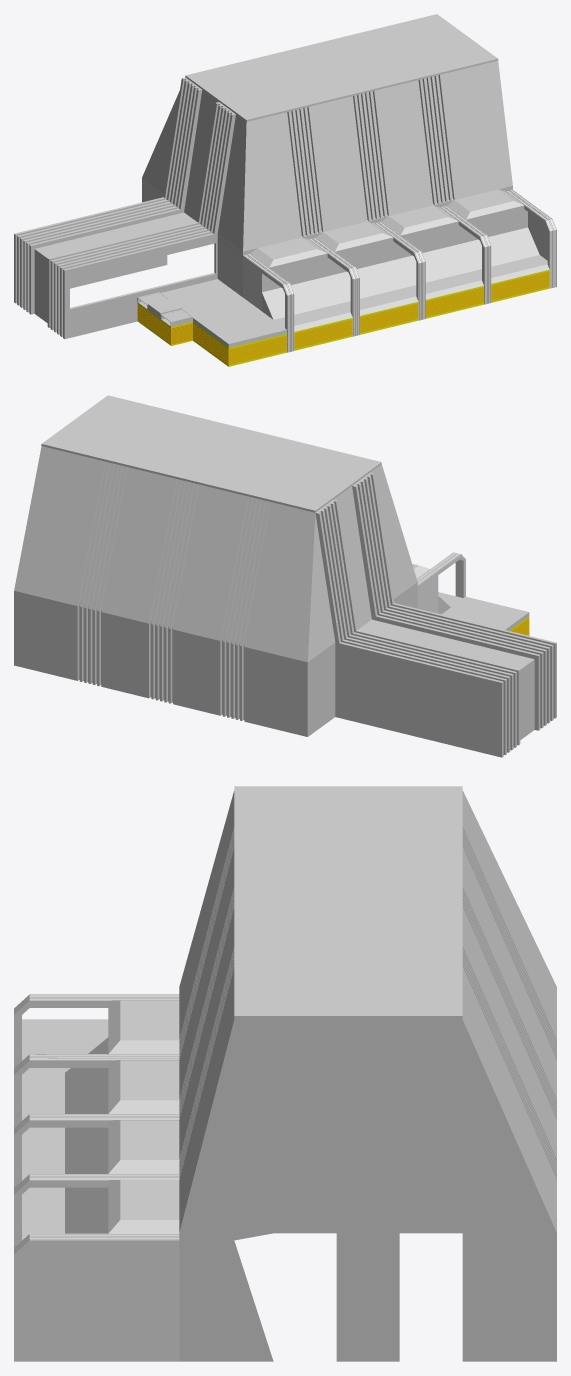
The model's file is ResearchBuilding_1.fbx.
The picture shows the model from 3 angles, top to bottom: view 1: azimuth 30°, elevation 25°; view 2: azimuth 150°, elevation 25°; view 3: azimuth 270°, elevation 25°; orthographic projection. The views are drawn at different scales.
Visible parts, largest first — view 1: roofEdge_1x1.318_wall4b_2x2.000_Cube.014, roofEdge_1x1.318_wall4b_2x2.000_Cube.007, wall2_2x2.001_Cube.000_wall2_2x2.001_Cube.021, roofEdge_1x1.318_wall4b_2x2.000_Cube.013, beam_0.5x2_Cube.366_beam_0.5x2_Cube.003, beam_0.5x2_Cube.366_beam_0.5x2_Cube.007, beam_0.5x2_Cube.366_beam_0.5x2_Cube.000, beam_0.5x2_Cube.366_beam_0.5x2_Cube.001, beam_0.5x2_Cube.366_beam_0.5x2_Cube.002; view 2: roofEdge_1x1.318_wall4b_2x2.000_Cube.014, roofEdge_1x1.318_wall4b_2x2.000_Cube.013, beam_0.5x2_Cube.366_beam_0.5x2_Cube.003; view 3: roofEdge_1x1.318_wall4b_2x2.000_Cube.014, beam_0.5x2_Cube.366_beam_0.5x2_Cube.007, roofEdge_1x1.318_wall4b_2x2.000_Cube.007, roofEdge_1x1.318_wall4b_2x2.000_Cube.013, beam_0.5x2_Cube.366_beam_0.5x2_Cube.001, beam_0.5x2_Cube.366_beam_0.5x2_Cube.003, beam_0.5x2_Cube.366_beam_0.5x2_Cube.002, beam_0.5x2_Cube.366_beam_0.5x2_Cube.000.
Part boxes in pixels (<box>): roofEdge_1x1.318_wall4b_2x2.000_Cube.014: <box>14,14,523,339</box>; roofEdge_1x1.318_wall4b_2x2.000_Cube.007: <box>262,205,549,331</box>; wall2_2x2.001_Cube.000_wall2_2x2.001_Cube.021: <box>137,269,549,366</box>; roofEdge_1x1.318_wall4b_2x2.000_Cube.013: <box>137,279,286,347</box>; beam_0.5x2_Cube.366_beam_0.5x2_Cube.003: <box>243,254,294,352</box>; beam_0.5x2_Cube.366_beam_0.5x2_Cube.007: <box>506,189,556,288</box>; beam_0.5x2_Cube.366_beam_0.5x2_Cube.000: <box>440,206,491,304</box>; beam_0.5x2_Cube.366_beam_0.5x2_Cube.001: <box>374,222,425,320</box>; beam_0.5x2_Cube.366_beam_0.5x2_Cube.002: <box>309,238,359,336</box>; roofEdge_1x1.318_wall4b_2x2.000_Cube.014: <box>14,395,556,757</box>; roofEdge_1x1.318_wall4b_2x2.000_Cube.013: <box>441,596,529,630</box>; beam_0.5x2_Cube.366_beam_0.5x2_Cube.003: <box>417,552,465,613</box>; roofEdge_1x1.318_wall4b_2x2.000_Cube.014: <box>108,786,556,1361</box>; beam_0.5x2_Cube.366_beam_0.5x2_Cube.007: <box>14,1233,179,1361</box>; roofEdge_1x1.318_wall4b_2x2.000_Cube.007: <box>22,1037,108,1240</box>; roofEdge_1x1.318_wall4b_2x2.000_Cube.013: <box>22,1019,108,1072</box>; beam_0.5x2_Cube.366_beam_0.5x2_Cube.001: <box>14,1114,179,1187</box>; beam_0.5x2_Cube.366_beam_0.5x2_Cube.003: <box>14,994,179,1067</box>; beam_0.5x2_Cube.366_beam_0.5x2_Cube.002: <box>14,1054,179,1127</box>; beam_0.5x2_Cube.366_beam_0.5x2_Cube.000: <box>14,1174,179,1247</box>.
Bounding box in the file's own units: 5803 × 2425 × 3450.
